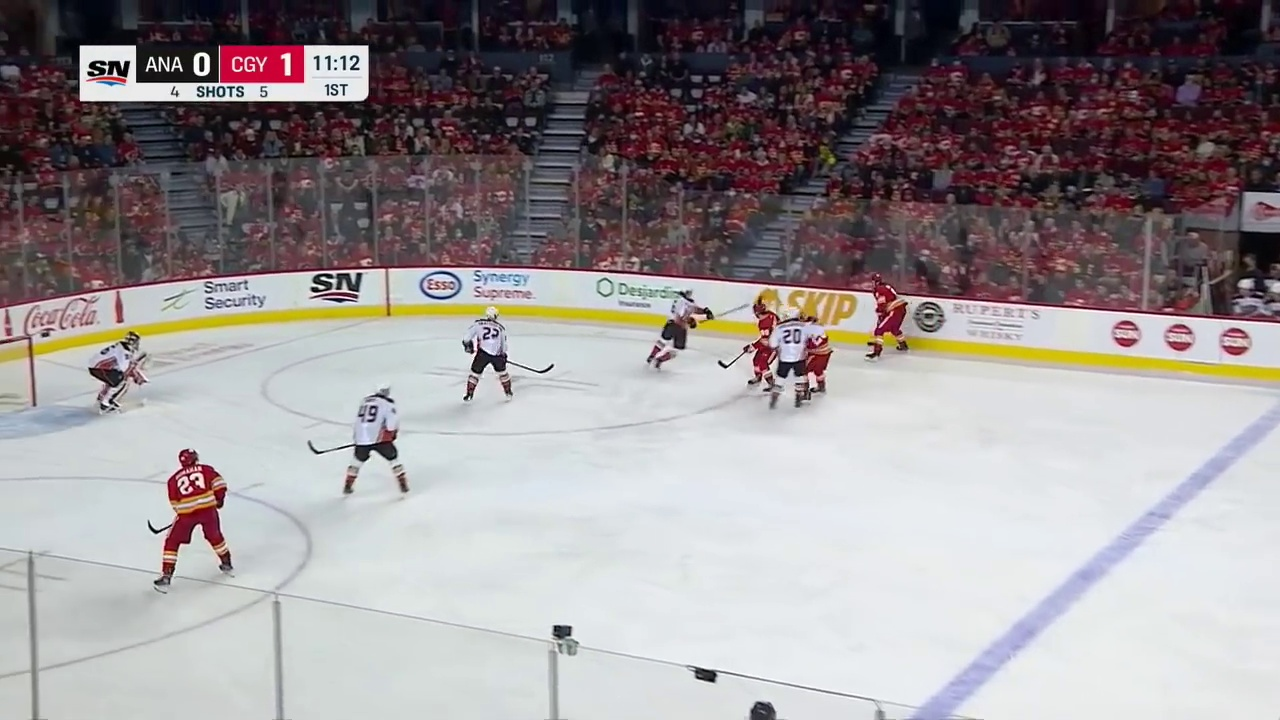goalie: (88, 331, 150, 415)
hockeyplayer: (153, 448, 234, 594), (343, 381, 410, 500), (646, 286, 714, 371), (769, 306, 824, 411), (461, 306, 515, 403), (864, 273, 909, 363), (742, 301, 781, 395), (798, 312, 833, 405)
